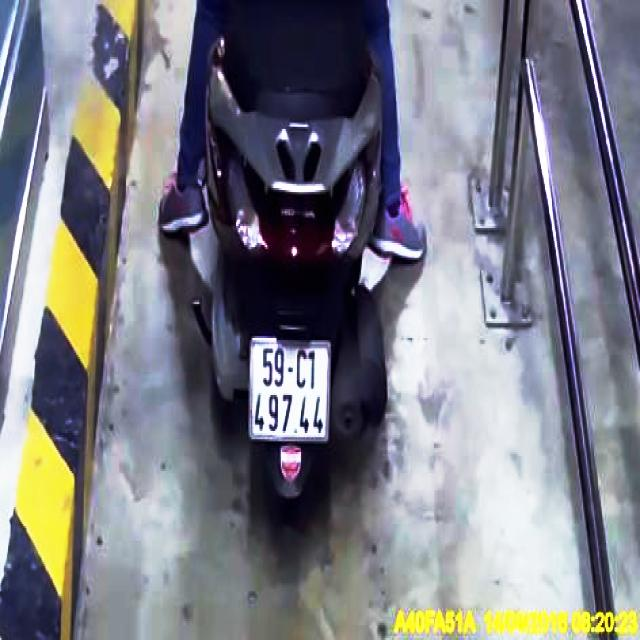license_plate: (252, 338, 331, 441)
